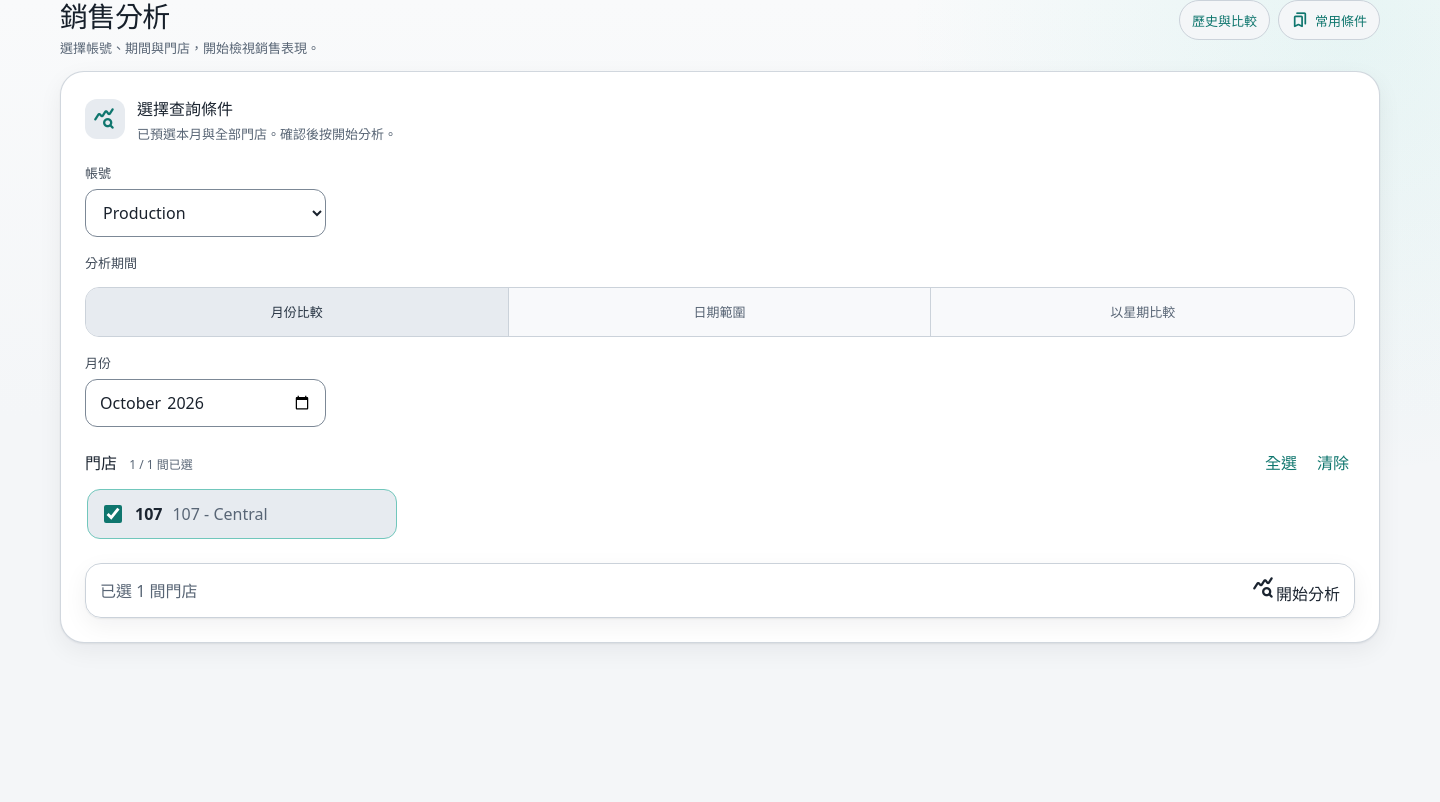
sales analysis page › releases native export ownership safely on folder-cancel
The image size is (1440, 802).
Check: the text "107 - Central" is shown, box [172, 503, 268, 525]
Click the text "開始分析" at (1296, 590), box [1252, 576, 1340, 605]
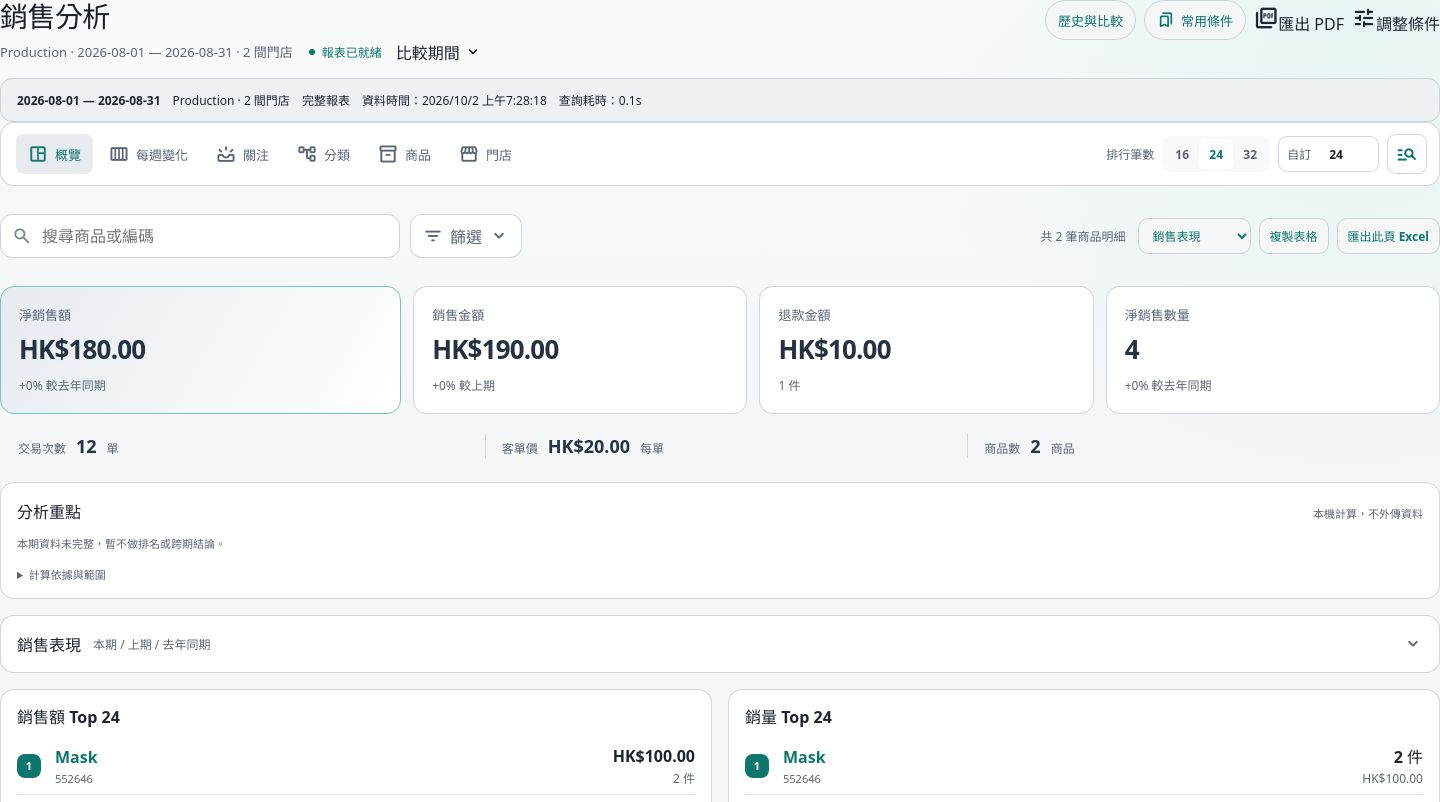
Check: the heading "銷售額 Top 24" is shown, box [17, 704, 120, 728]
Click the text "匯出 PDF" at (1299, 20), box [1254, 6, 1344, 34]
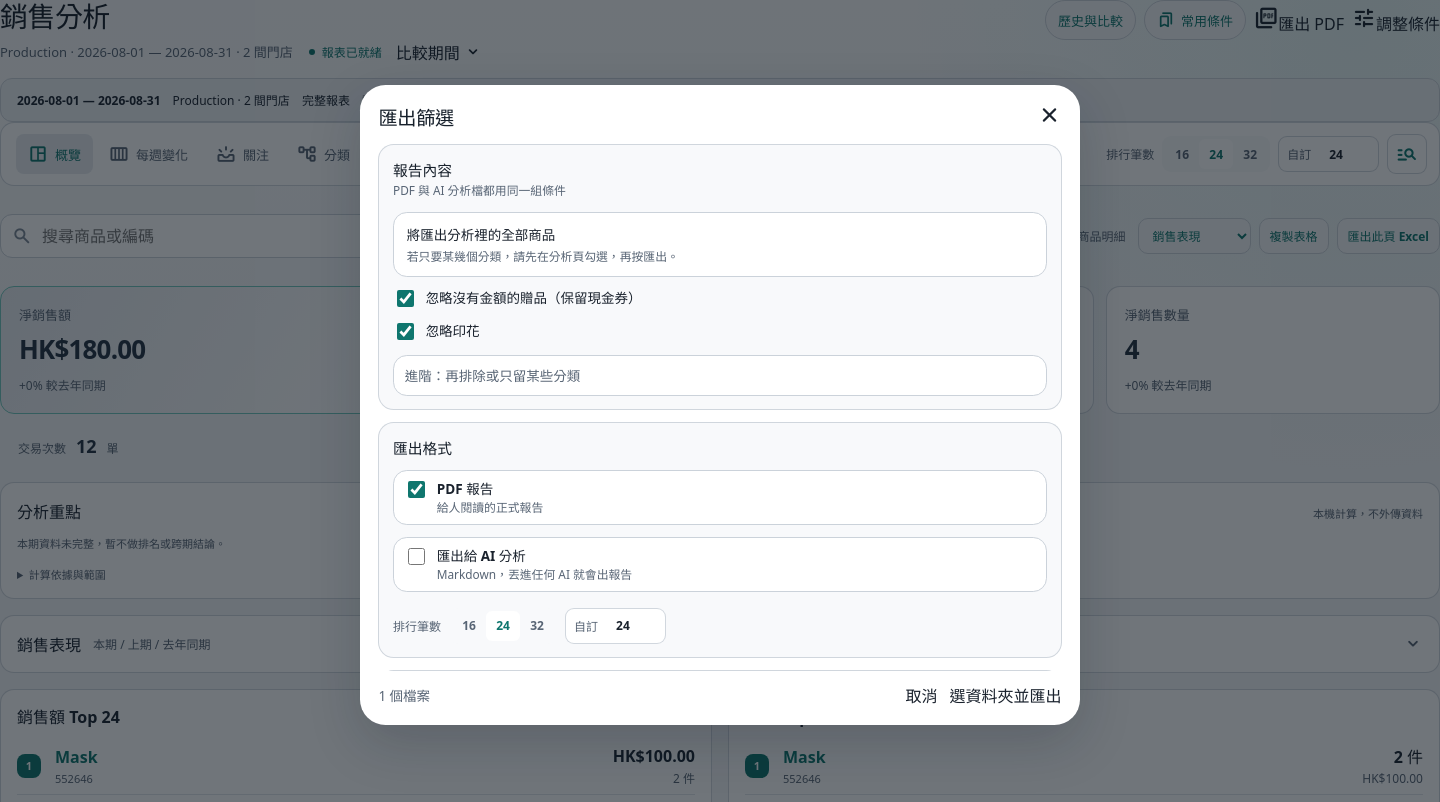
Check: the heading "匯出篩選" is shown, box [378, 106, 454, 129]
Click the text "選資料夾並匯出" at (1006, 695), box [950, 683, 1062, 707]
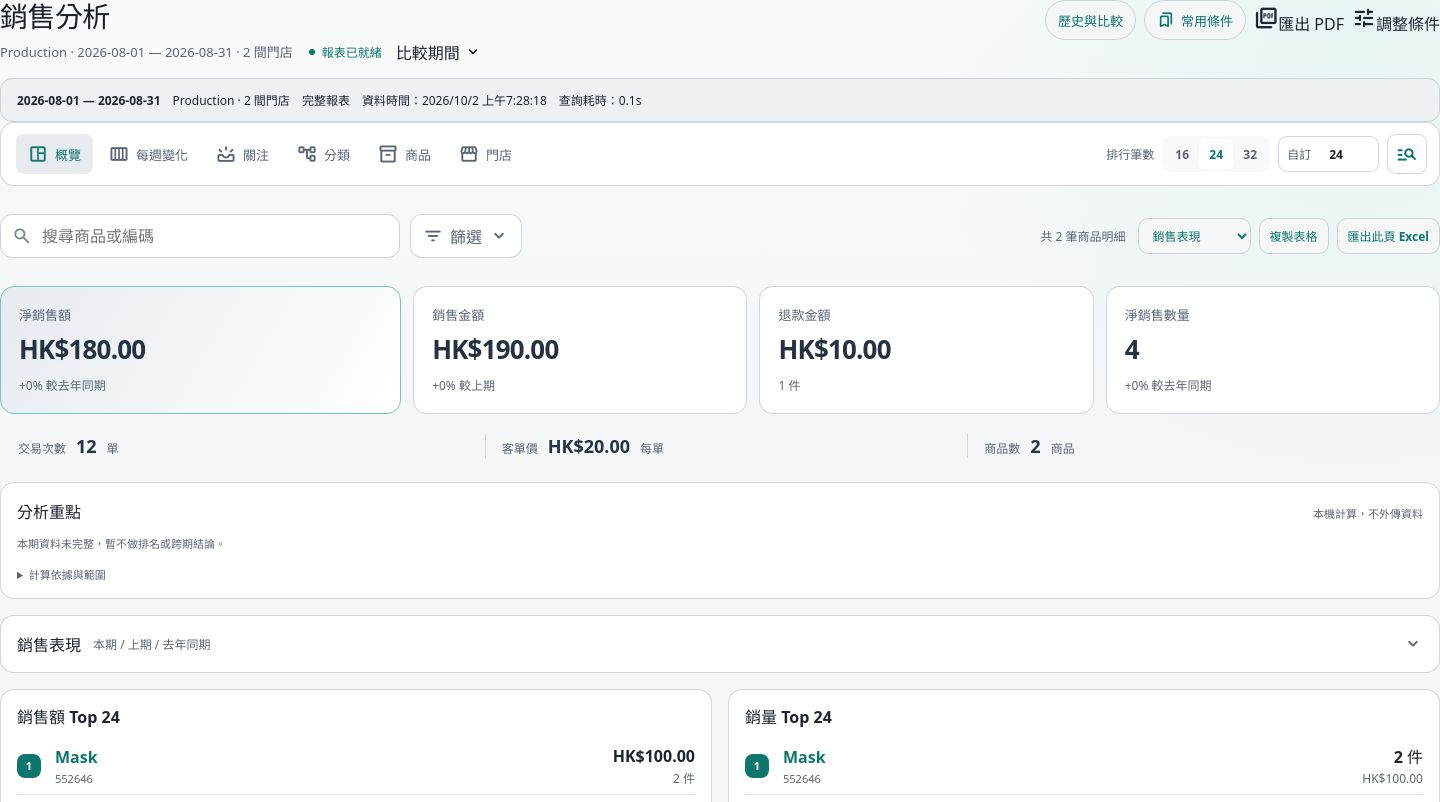
Check: the dialog is gone
